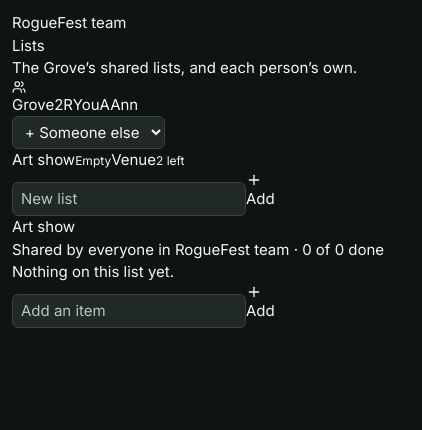
Test: puts the Grove’s lists and each person’s on their own tabs
The width and height of the screenshot is (422, 430).
Expected: the tabs read "Grove2", "RYou", "AAnn", in this order, x1=12 y1=80 x2=63 y2=116; x1=63 y1=94 x2=100 y2=116; x1=100 y1=94 x2=138 y2=116
Click the button "Venue2 left".
click(148, 160)  # box x1=111 y1=149 x2=184 y2=172
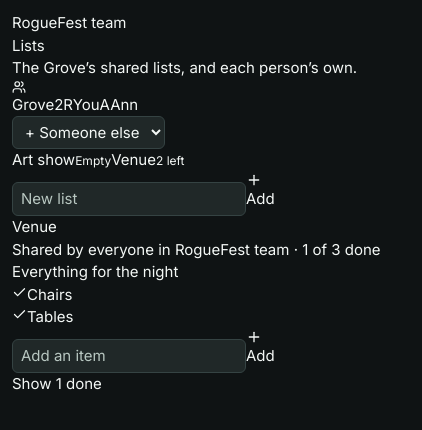
Expected: the text "Shared by everyone in RogueFest team · 1 of 3 done" is shown, x1=12 y1=240 x2=380 y2=258
Expected: the text "Everything for the night" is shown, x1=12 y1=262 x2=178 y2=281
Expected: the list items read "Chairs", "Tables", in this order, x1=12 y1=284 x2=72 y2=306; x1=12 y1=306 x2=74 y2=328
// Done things wait behind a button.
Click the button "Show 1 done".
click(57, 384)  # box x1=12 y1=373 x2=102 y2=396
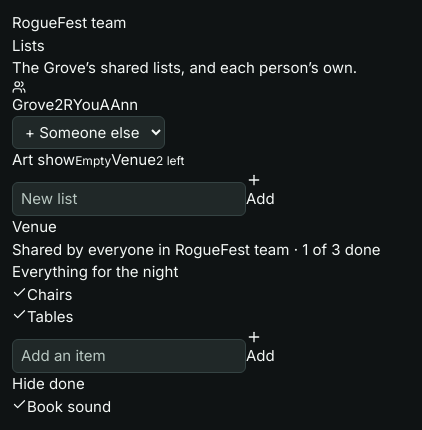
Press ArrowRight in the tab "Grove2", box x1=12 y1=80 x2=63 y2=116
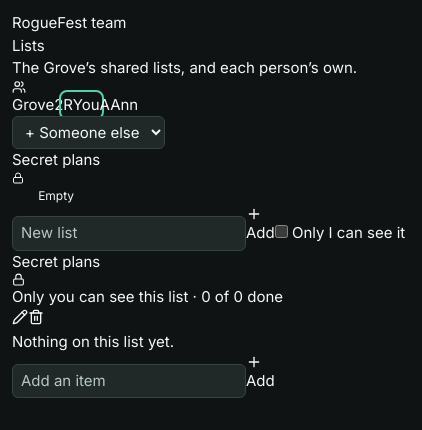
Expected: the text "Only you can see this list · 0 of 0 done" is shown, x1=12 y1=273 x2=283 y2=306
Click the tab "AAnn".
click(119, 105)  # box x1=100 y1=94 x2=138 y2=116
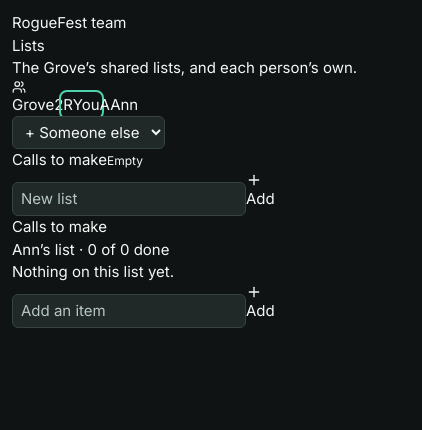
Expected: the element "Calls to make" shows "Ann’s list", x1=12 y1=240 x2=75 y2=258
// Coming back to the Grove finds Venue still open.
Click the tab "Grove2".
click(38, 98)  # box x1=12 y1=80 x2=63 y2=116
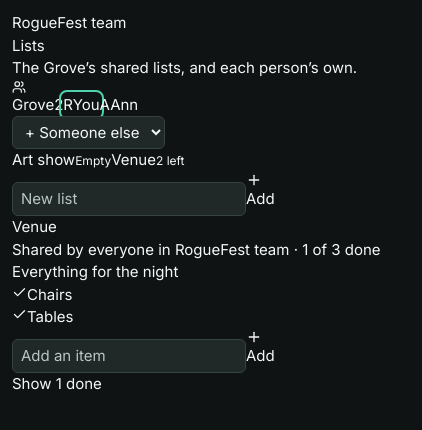
Expected: the element "Venue" is shown, x1=12 y1=217 x2=380 y2=396
